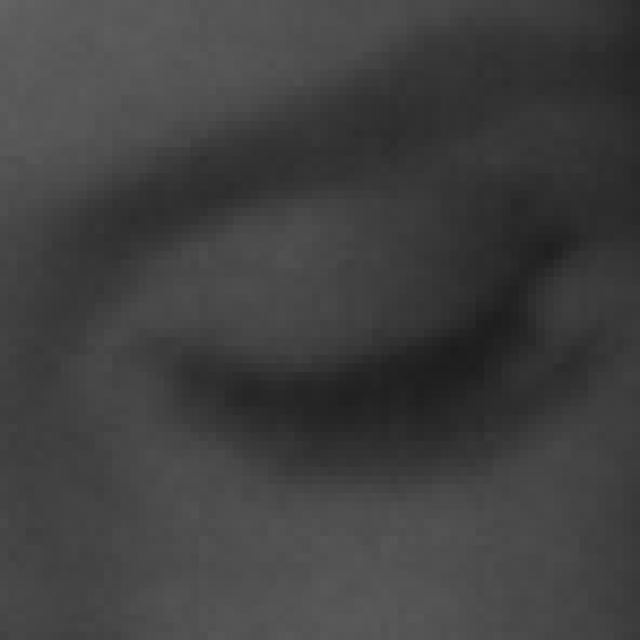Eyeclosed: (198, 216, 597, 554)
